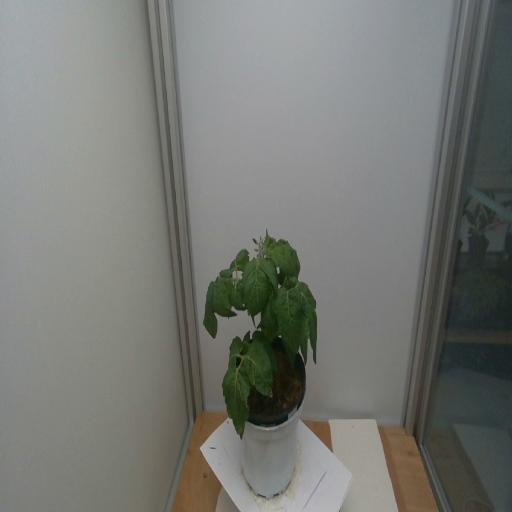Tomato-Leaves-Cupboard-: (235, 340, 282, 404), (272, 276, 304, 360), (240, 252, 276, 322), (298, 275, 325, 361), (198, 275, 234, 337), (223, 372, 251, 437), (222, 239, 253, 291), (271, 232, 300, 285), (221, 336, 243, 382)
